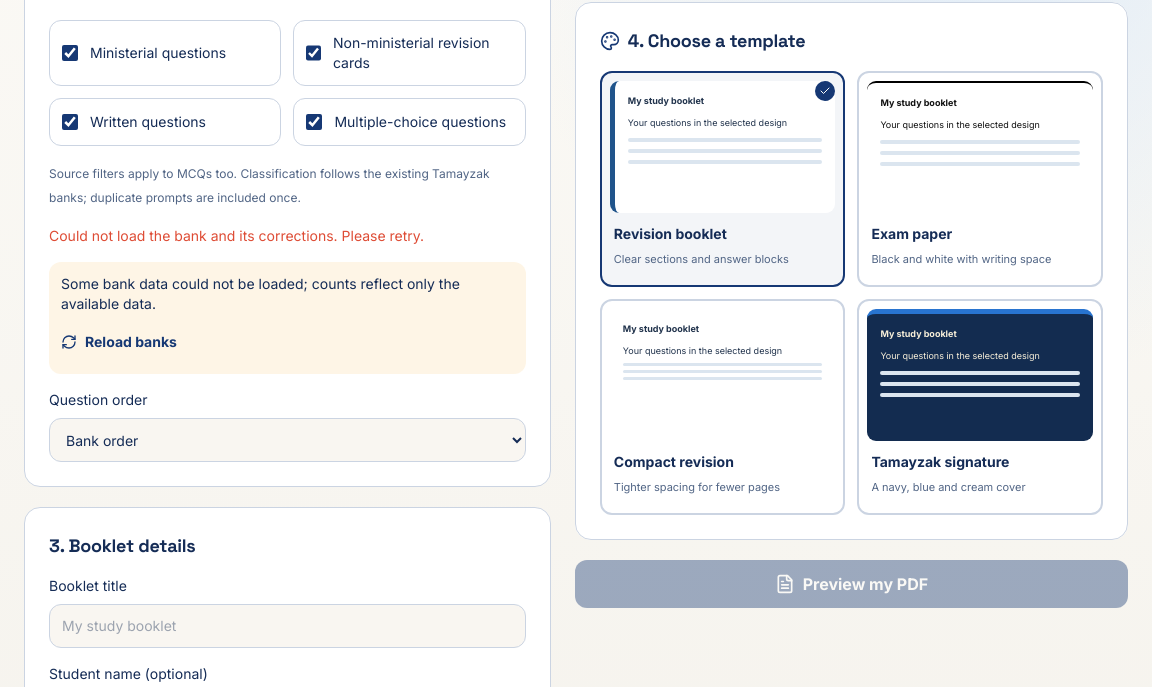
PDF builder › blocks the preview on correction-load failures and supports retry
(page scrolled)
Expected: the message shows "Could not load the bank and its corrections", [49,227,424,244]
Expected: the button "Preview my PDF" is disabled, [575,560,1128,608]
Click the button "Reload banks" at (119, 342), box [61,322,177,362]
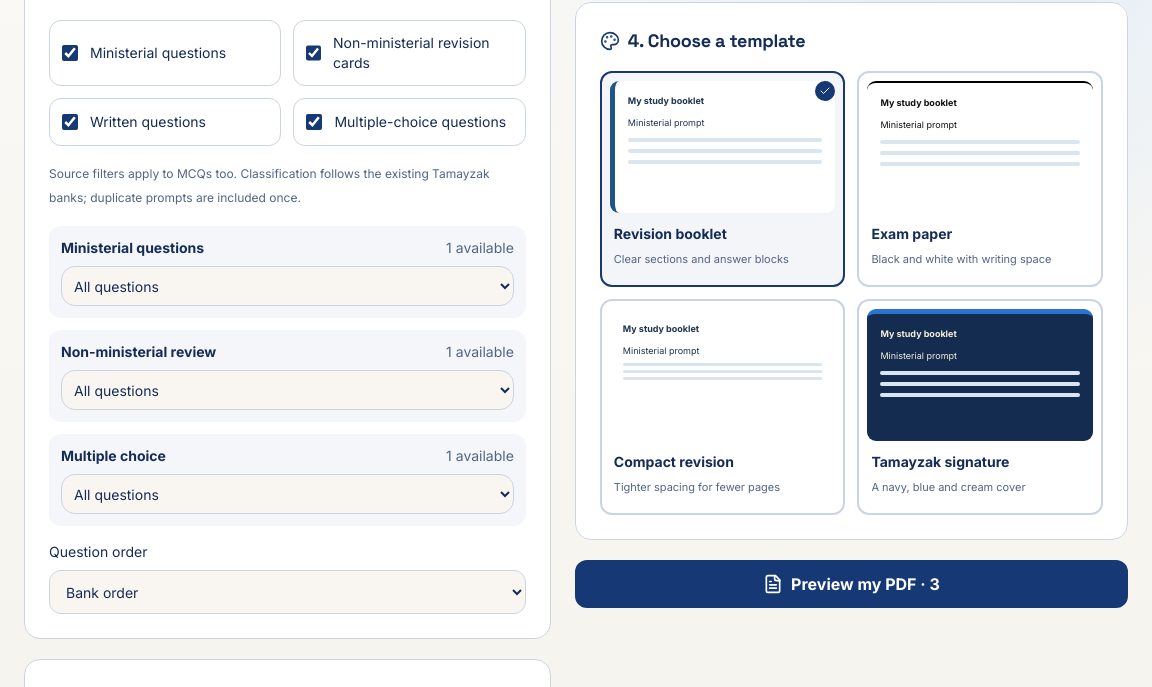
Result: the button "Preview my PDF · 3" is enabled at [575,560,1128,608]
